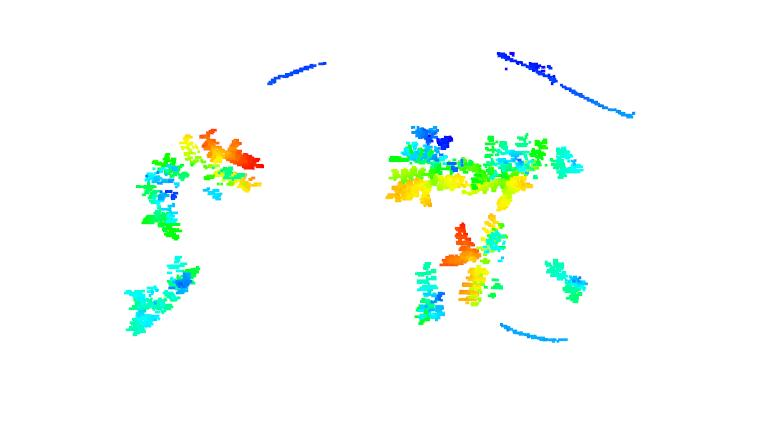chickpea: (467, 133, 587, 210), (387, 108, 469, 211), (443, 215, 527, 310), (114, 256, 208, 336), (181, 126, 272, 201), (133, 158, 194, 238), (406, 261, 451, 326), (537, 254, 595, 303)
